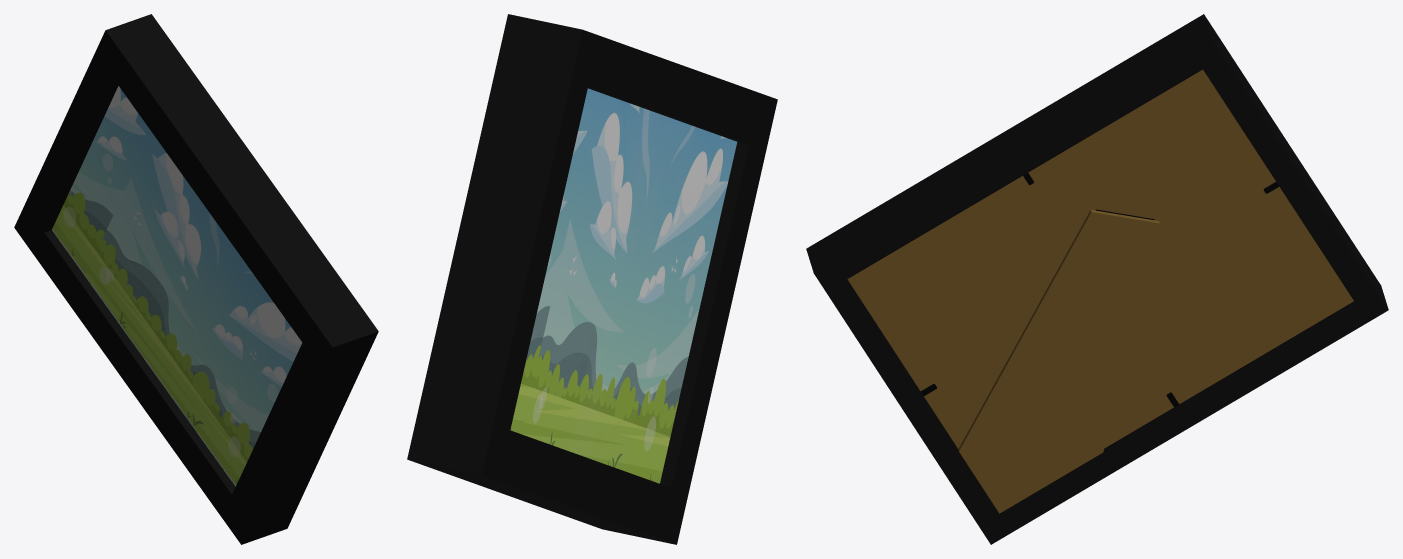
File: picture2.glb
The picture shows the model from 3 angles, left to right: view 1: azimuth 30°, elevation 25°; view 2: azimuth 150°, elevation 25°; view 3: azimuth 270°, elevation 25°; orthographic projection. The views are drawn at different scales.
Visible parts, largest first — view 1: Body1, Body3, Body2; view 2: Body1, Body3, Body2; view 3: Body5, Body1 (×2).
Part boxes in pixels (<box>): Body1: <box>14,14,378,544</box>; Body3: <box>52,86,302,486</box>; Body2: <box>52,86,301,485</box>; Body1: <box>407,14,777,544</box>; Body3: <box>510,88,737,483</box>; Body2: <box>511,89,736,482</box>; Body5: <box>847,69,1353,448</box>; Body1 (×2): <box>806,14,1388,544</box>.
Bounding box in the file's own units: 0.0759 × 0.3152 × 0.3399.
Materials: 5 (1 with a texture image).
